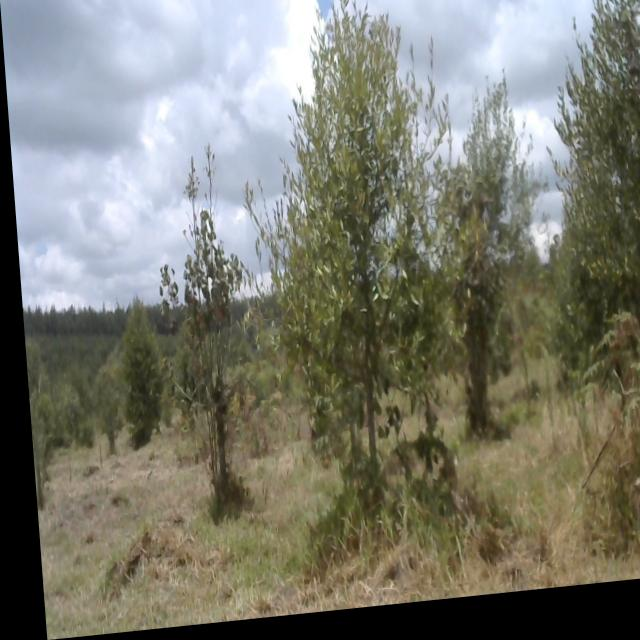Salix alba: (229, 0, 460, 556), (420, 69, 546, 437), (531, 0, 640, 396)
cedrus: (110, 295, 174, 454)
other: (158, 144, 259, 516)
